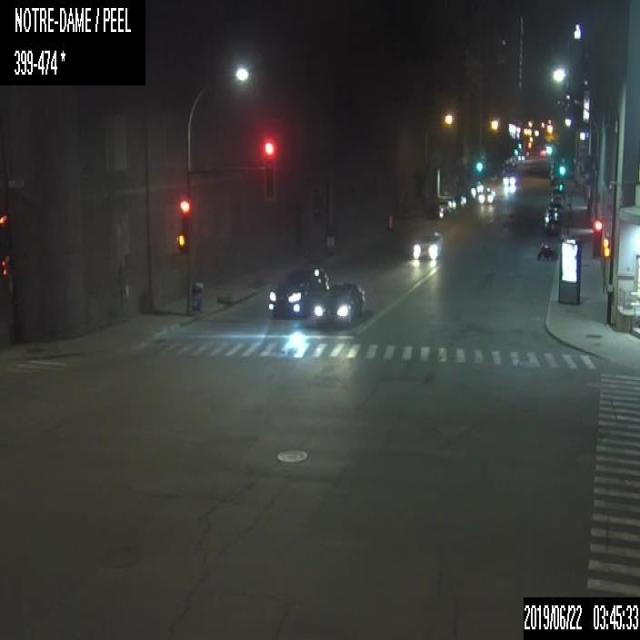construction: (388, 214, 392, 231)
vehicle: (265, 262, 329, 316), (314, 280, 365, 326), (410, 230, 443, 258), (536, 240, 558, 260), (544, 212, 559, 234), (424, 203, 444, 219), (477, 187, 495, 203), (442, 196, 457, 211), (435, 200, 450, 213), (502, 173, 516, 185), (550, 192, 562, 205), (544, 204, 558, 215)
